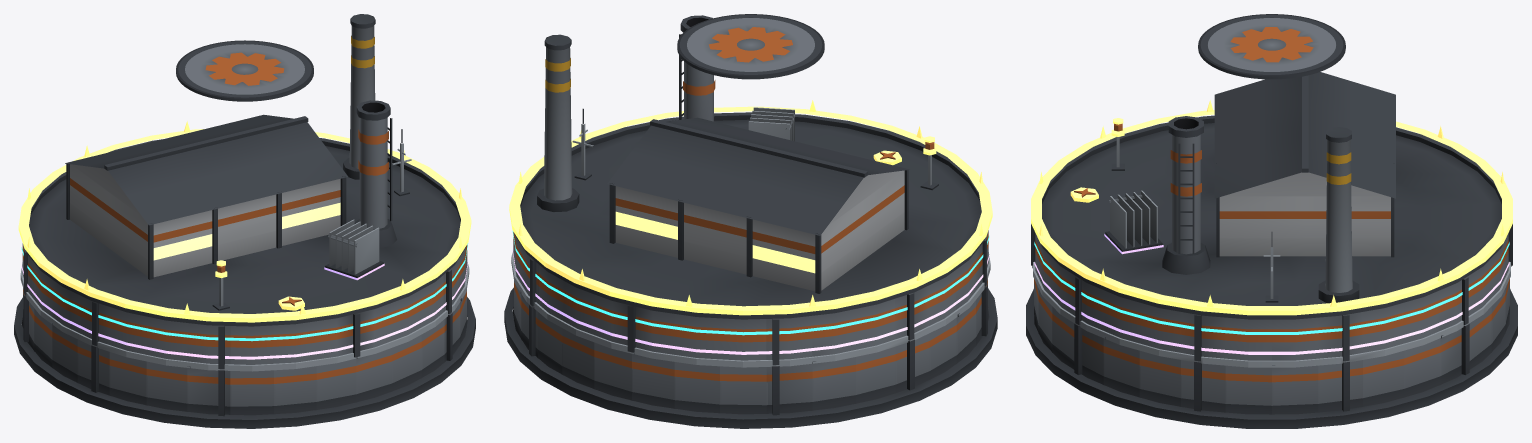
Rendered from refinery_s_far.glb.
The picture shows the model from 3 angles, left to right: view 1: azimuth 30°, elevation 25°; view 2: azimuth 150°, elevation 25°; view 3: azimuth 270°, elevation 25°; orthographic projection. The views are drawn at different scales.
Visible parts, largest first — view 1: Roof, Base, L5, L4, L2, L3; view 2: Roof, Base, L5, L2, L4, L3; view 3: Roof, Base, L5, L4, L2, L3.
Part boxes in pixels (left/top/right/bottom): Roof: left=22, top=14, right=467, bottom=369; Base: left=14, top=288, right=475, bottom=428; L5: left=18, top=121, right=471, bottom=322; L4: left=21, top=219, right=468, bottom=359; L2: left=20, top=129, right=469, bottom=371; L3: left=21, top=243, right=468, bottom=341; Roof: left=513, top=14, right=988, bottom=365; Base: left=504, top=279, right=997, bottom=428; L5: left=509, top=100, right=992, bottom=315; L2: left=511, top=108, right=990, bottom=367; L4: left=512, top=107, right=989, bottom=354; L3: left=512, top=231, right=989, bottom=335; Roof: left=1031, top=14, right=1512, bottom=361; Base: left=1026, top=265, right=1517, bottom=428; L5: left=1031, top=100, right=1512, bottom=315; L4: left=1034, top=190, right=1509, bottom=354; L2: left=1033, top=232, right=1510, bottom=367; L3: left=1034, top=242, right=1509, bottom=334.
Size of the model in its own units: 11.74 by 7.38 by 11.74.
